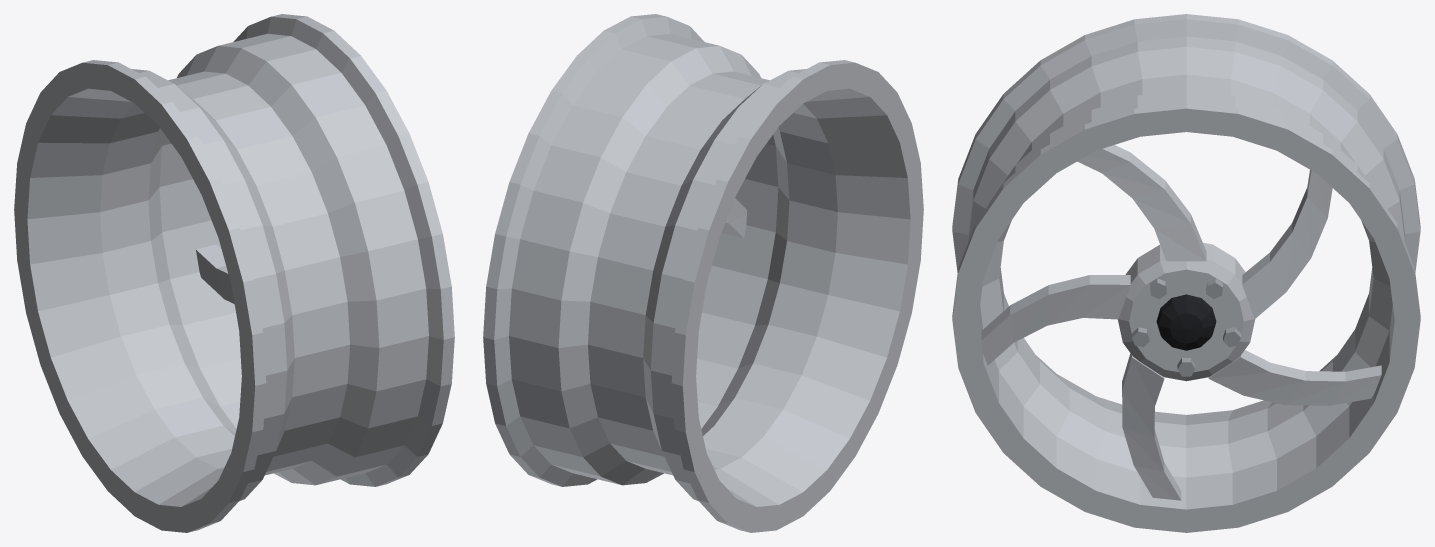
File: rim_twist5_18.glb
3 views of the same model, side by side, from view 1: azimuth 30°, elevation 25°; view 2: azimuth 150°, elevation 25°; view 3: azimuth 270°, elevation 25° (orthographic). The views are drawn at different scales.
Visible parts, largest first — view 1: model; view 2: model; view 3: model.
Part boxes in pixels (x1=…): model: x1=14, y1=14, x2=454, y2=532; model: x1=483, y1=14, x2=923, y2=532; model: x1=952, y1=14, x2=1420, y2=532.
Bounding box in the file's own units: 0.2549 × 0.4892 × 0.4892.
Materials: 3 (1 with a texture image).
